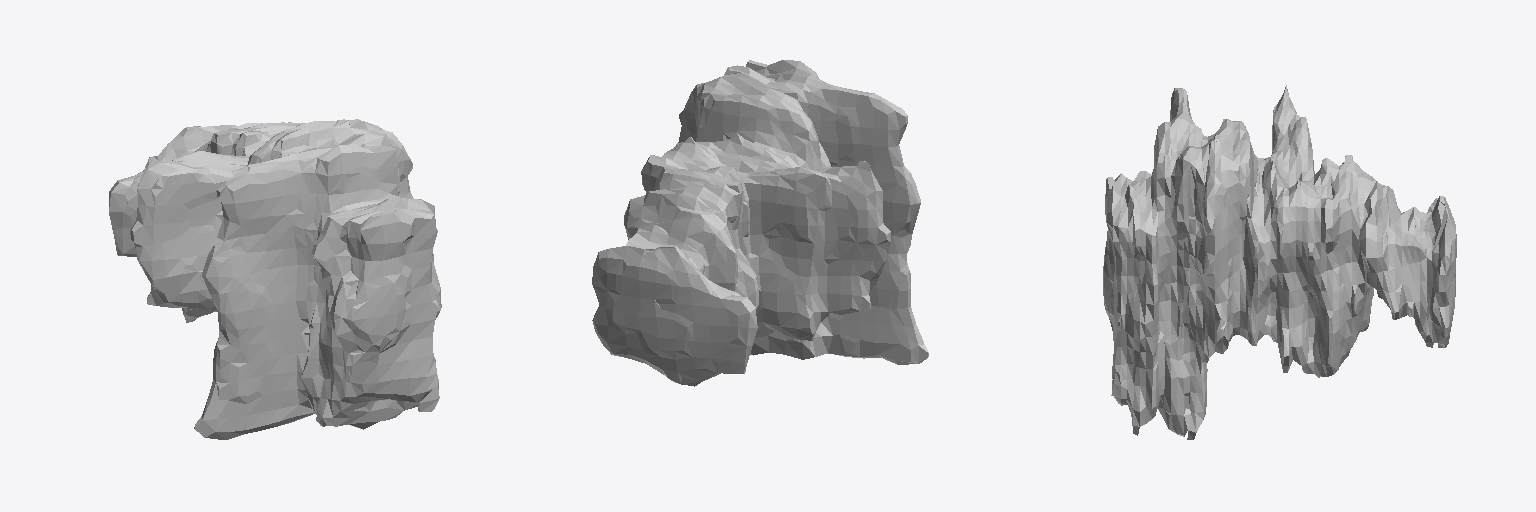
The model's file is friend_rock_wall_based_front_on.obj.
The picture shows the model from 3 angles: view 1: azimuth 30°, elevation 25°; view 2: azimuth 150°, elevation 25°; view 3: azimuth 270°, elevation 25°; orthographic projection.
Visible parts, largest first — view 1: friend_rock_wall_based_pn_paul_rock_low_poly_Cube.005; view 2: friend_rock_wall_based_pn_paul_rock_low_poly_Cube.005; view 3: friend_rock_wall_based_pn_paul_rock_low_poly_Cube.005.
Part boxes in pixels (x1,y1,x2,y2): friend_rock_wall_based_pn_paul_rock_low_poly_Cube.005: (109, 119, 441, 439); friend_rock_wall_based_pn_paul_rock_low_poly_Cube.005: (592, 60, 928, 386); friend_rock_wall_based_pn_paul_rock_low_poly_Cube.005: (1103, 85, 1456, 439).
Size of the model in its own units: 1.67 by 1.9 by 2.09.